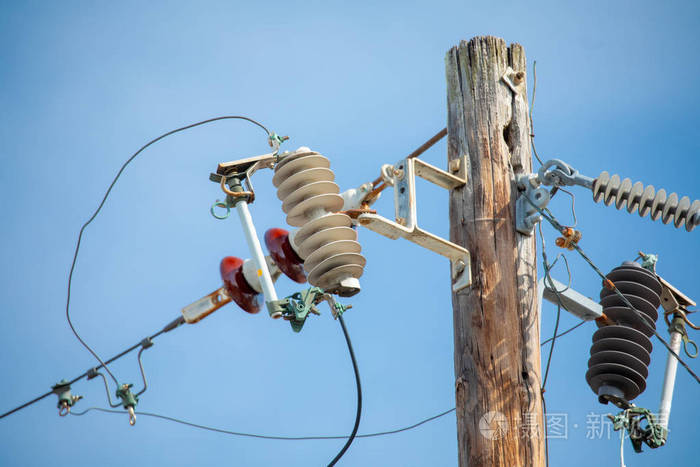insulator: (273, 151, 364, 283), (583, 267, 660, 399), (593, 170, 700, 229)
